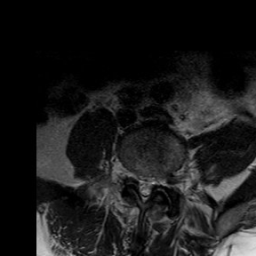CCS_normal: (142, 168, 148, 209)
LFS_normal: (155, 165, 164, 194)
LLS_stenosis: (148, 166, 155, 197)
RFS_stenosis: (127, 159, 135, 189)
RLS_stenosis: (135, 165, 142, 195)
